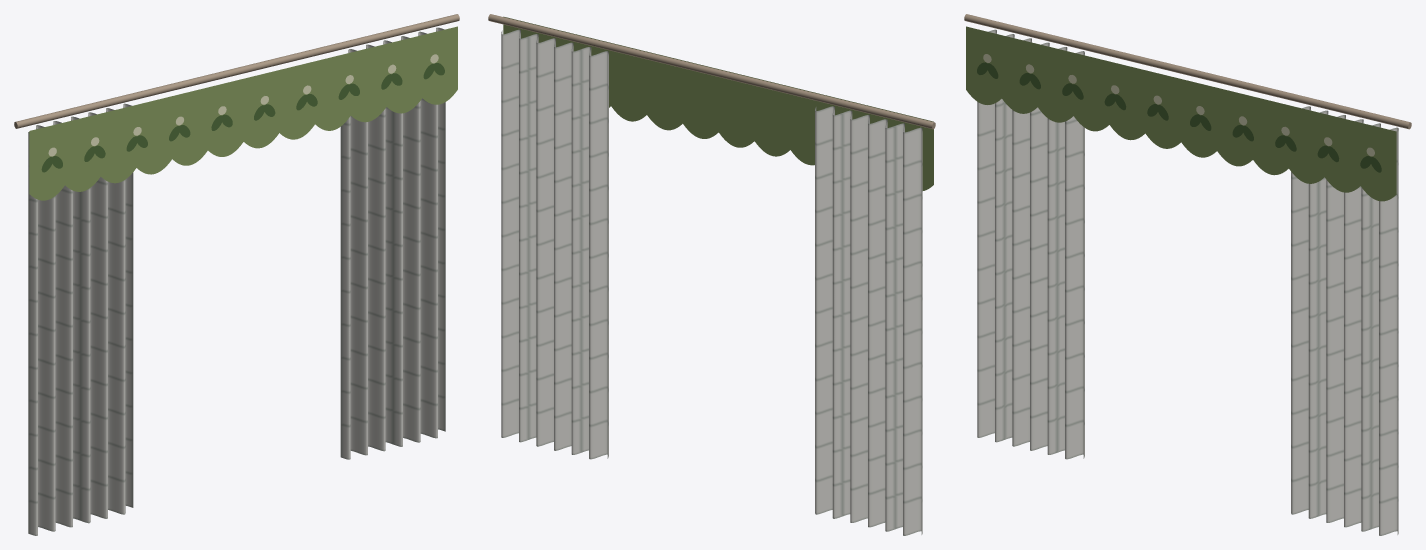
Rendered from curtains.glb.
3 renders of one model, left to right at view 1: azimuth 30°, elevation 25°; view 2: azimuth 150°, elevation 25°; view 3: azimuth 330°, elevation 25°, orthographic.
Visible parts, largest first — view 1: green-lace-white-square-curtains; view 2: green-lace-white-square-curtains; view 3: green-lace-white-square-curtains.
Part boxes in pixels (x1=…): green-lace-white-square-curtains: x1=14, y1=14, x2=459, y2=535; green-lace-white-square-curtains: x1=488, y1=14, x2=935, y2=535; green-lace-white-square-curtains: x1=964, y1=14, x2=1411, y2=535.
Bounding box in the file's own units: 1.98 × 1.77 × 0.096.
